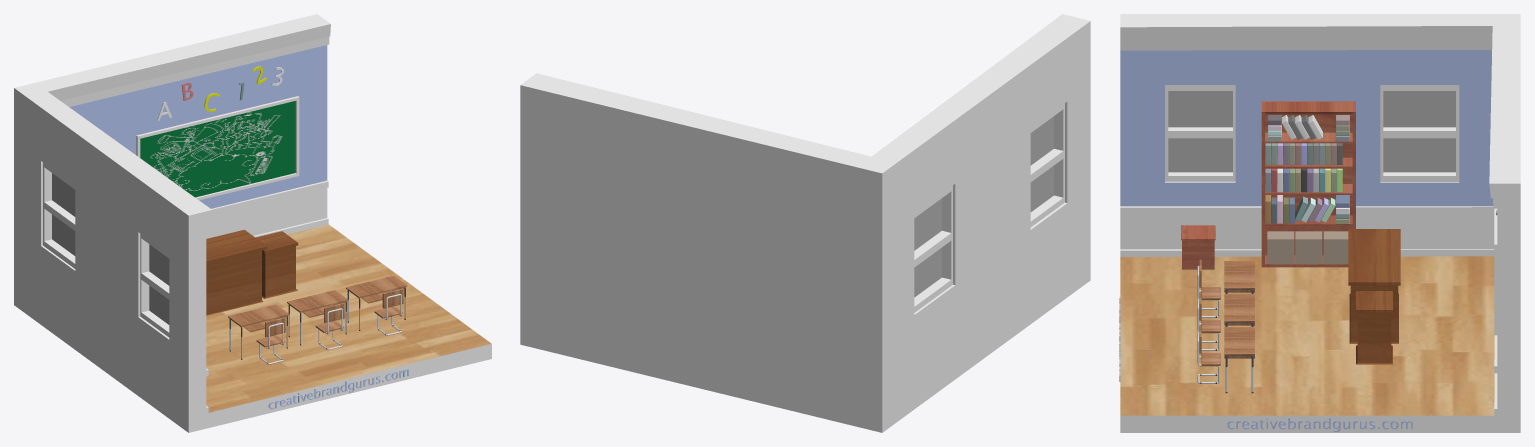
File: classroom.glb
The picture shows the model from 3 angles, left to right: view 1: azimuth 30°, elevation 25°; view 2: azimuth 150°, elevation 25°; view 3: azimuth 270°, elevation 25°; orthographic projection. The views are drawn at different scales.
Visible parts, largest first — view 1: polySurface111, polySurface114, polySurface46, Desk1, Desk2, polySurface121, polySurface123, polySurface120, polySurface122, typeMesh2; view 2: polySurface111, polySurface121, polySurface123, polySurface120, polySurface122; view 3: polySurface111, pCube10, polySurface120, polySurface46, polySurface122, Desk1, polySurface121, Desk2, polySurface123, pCube67, pCube64, pCube65 (+3 smaller).
Part boxes in pixels (x1,y1,x2,y2): polySurface111: [14, 14, 491, 432]; polySurface114: [136, 96, 299, 200]; polySurface46: [228, 275, 407, 364]; Desk1: [206, 229, 267, 315]; Desk2: [256, 231, 298, 298]; polySurface121: [43, 162, 75, 268]; polySurface123: [140, 234, 169, 337]; polySurface120: [52, 173, 75, 255]; polySurface122: [149, 244, 169, 324]; typeMesh2: [268, 369, 408, 409]; polySurface111: [520, 14, 1090, 432]; polySurface121: [914, 185, 952, 312]; polySurface123: [1030, 103, 1064, 226]; polySurface120: [914, 198, 941, 297]; polySurface122: [1030, 116, 1053, 211]; polySurface111: [1120, 14, 1520, 432]; pCube10: [1261, 101, 1355, 267]; polySurface120: [1383, 91, 1455, 172]; polySurface46: [1197, 259, 1254, 393]; polySurface122: [1168, 91, 1232, 172]; Desk1: [1348, 229, 1400, 343]; polySurface121: [1380, 85, 1459, 181]; Desk2: [1356, 291, 1392, 364]; polySurface123: [1165, 85, 1235, 181]; pCube67: [1181, 225, 1215, 269]; pCube64: [1267, 231, 1294, 263]; pCube65: [1295, 231, 1322, 263].
Bounding box in the file's own units: 0.2087 × 0.1426 × 0.208.
82 materials, 9 textured.
